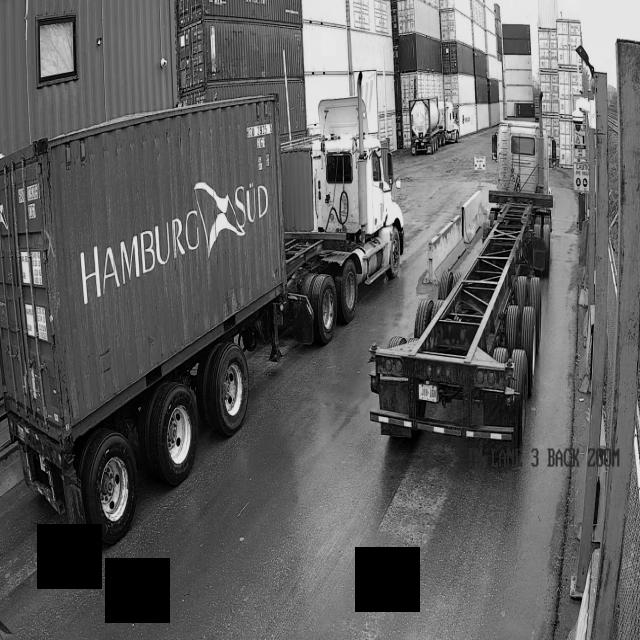container_company_logo: (72, 165, 272, 320)
license_plate: (417, 385, 440, 402)
truck_with_container: (0, 72, 404, 547)
truck_without_container: (369, 121, 553, 463)
